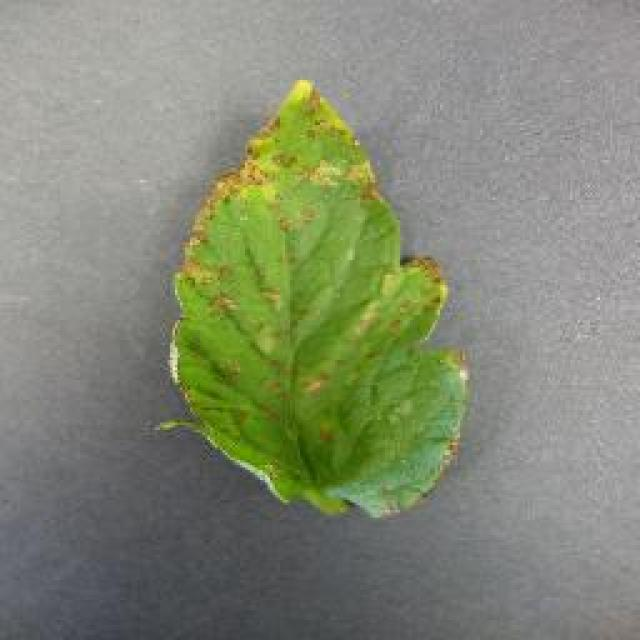Tomato___Bacterial_spot: (153, 75, 474, 521)
